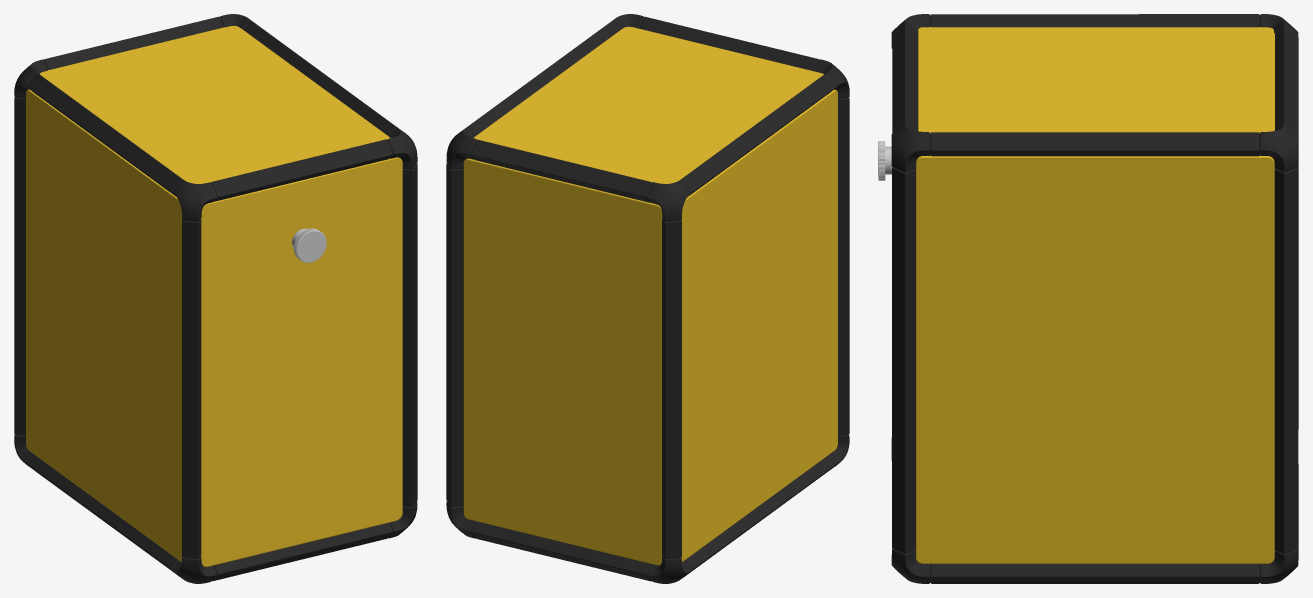
The picture shows the model from 3 angles, left to right: view 1: azimuth 30°, elevation 25°; view 2: azimuth 150°, elevation 25°; view 3: azimuth 270°, elevation 25°; orthographic projection. The views are drawn at different scales.
Parts seen in each view (by area): view 1: 229x329x420; view 2: 229x329x420; view 3: 229x329x420.
Part boxes in pixels (x1,y1,x2,y2): 229x329x420: [14, 14, 417, 583]; 229x329x420: [446, 14, 849, 583]; 229x329x420: [878, 14, 1298, 583].
Size of the model in its own units: 0.3068 by 0.4976 by 0.4196.
